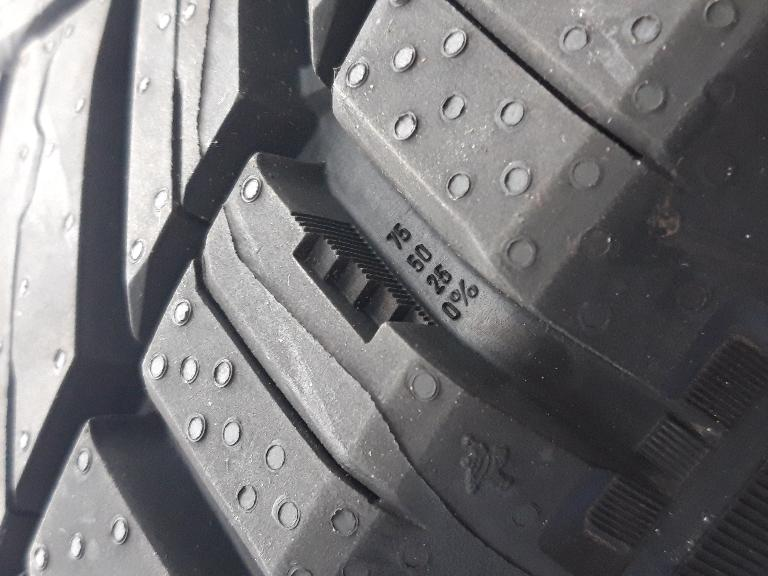temoin:100: (283, 206, 448, 354)
